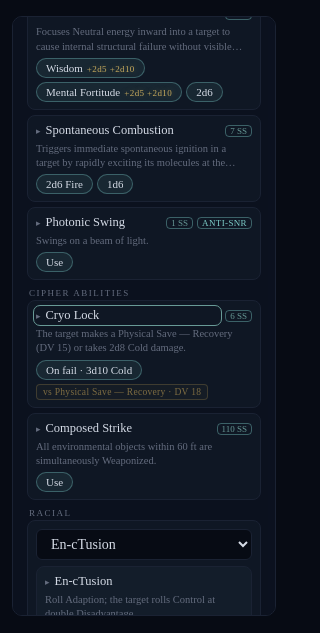
a card that holds its own content › keeps the disclosure focusable and says which way it goes
(page scrolled)
Click the button "▸ Cryo Lock".
click(128, 316)  # box [36,308,219,323]
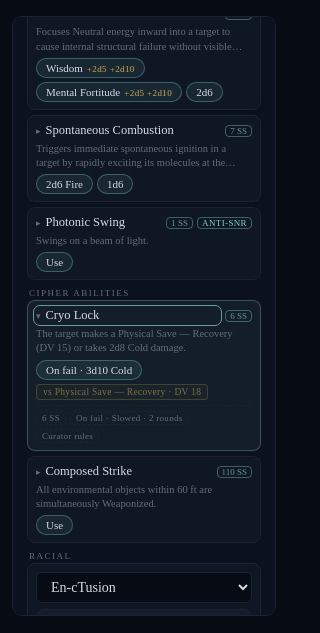
Result: the button "▾ Cryo Lock" is expanded at [36,308,219,323]
